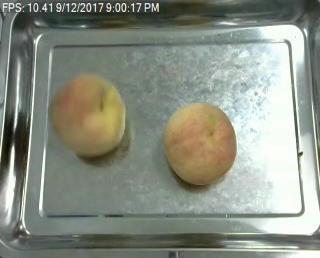Peach: (50, 72, 127, 157), (165, 101, 237, 185)
